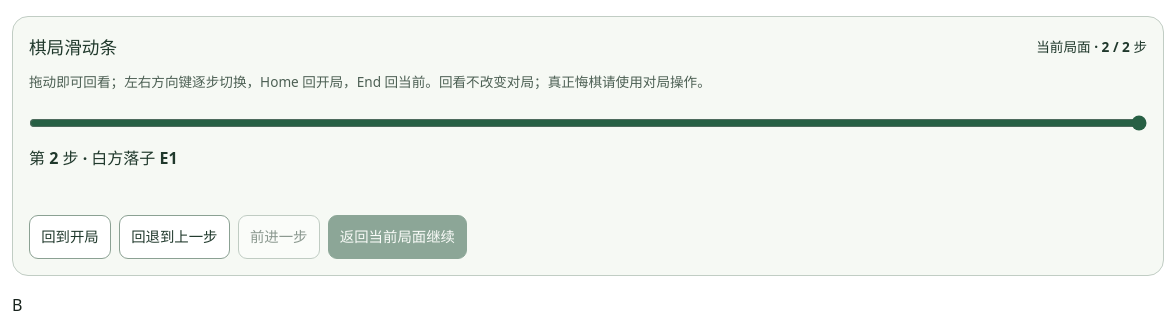
Test: starts current and supports backward, forward, start and latest without modifying a game
Expected: the slider labelled "棋局滑动条" holds "2", [29,101,1147,145]
What coordinates should you click on to do the following:
click the button "回退到上一步"
I would click on:
 (174, 237)
Its box is [119,215,230,259].
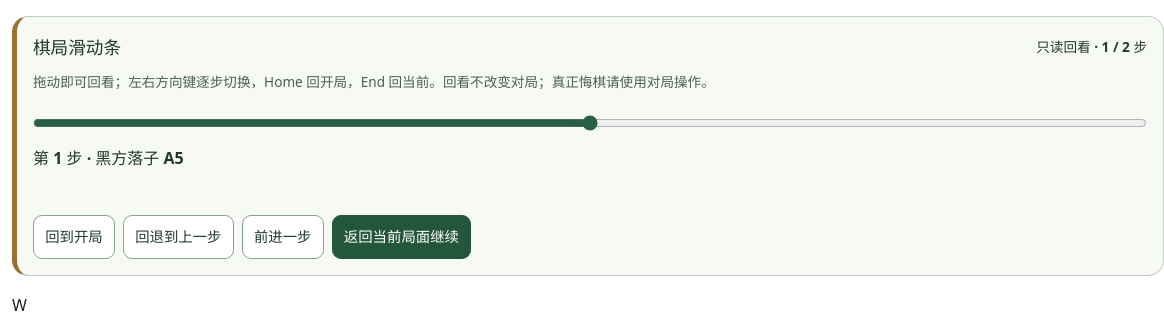
Expected: the slider labelled "棋局滑动条" holds "1", [33,101,1147,145]
Expected: the text with test id "turn" reads "W", [12,294,27,316]
What coordinates should you click on to do the following:
click the button "回到开局"
I would click on:
 (74, 237)
Its box is [33,215,115,259].
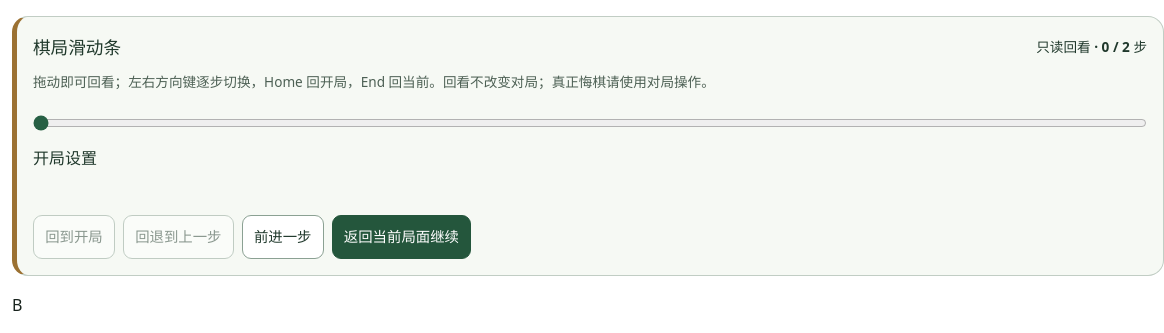
Expected: the slider labelled "棋局滑动条" holds "0", [33,101,1147,145]
What coordinates should you click on to do the following:
click the button "前进一步"
I would click on:
 (283, 237)
Its box is [242,215,324,259].
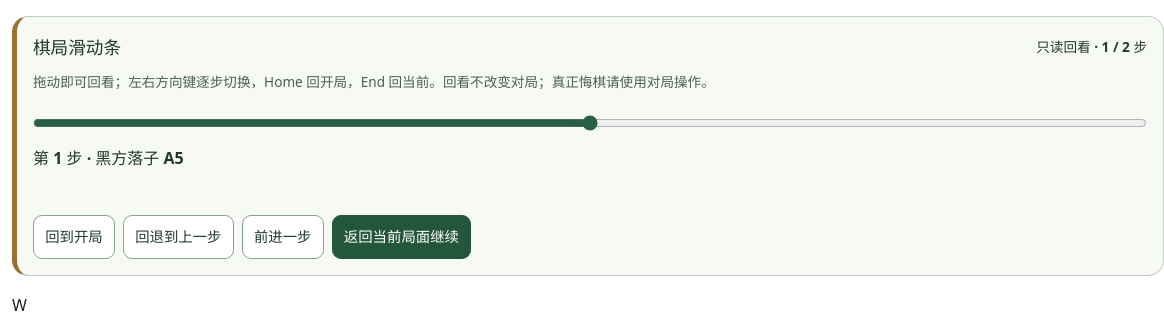
Expected: the slider labelled "棋局滑动条" holds "1", [33,101,1147,145]
What coordinates should you click on to do the following:
click the button "返回当前局面继续"
I would click on:
 (401, 237)
Its box is [332,215,471,259].
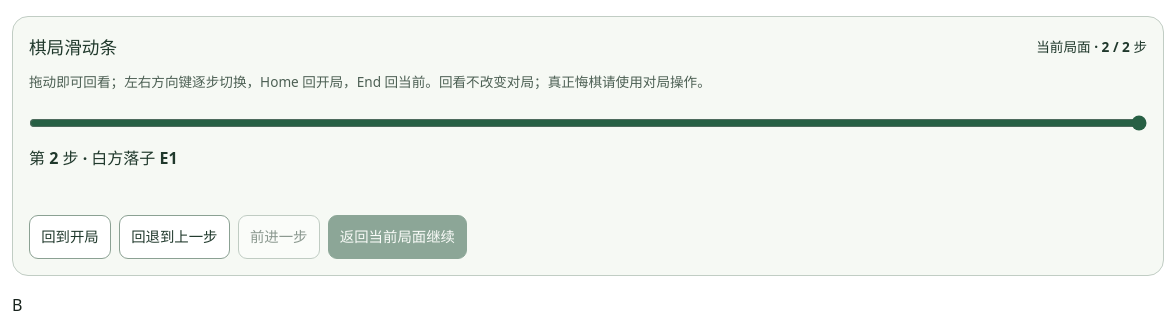
Expected: the slider labelled "棋局滑动条" holds "2", [29,101,1147,145]
